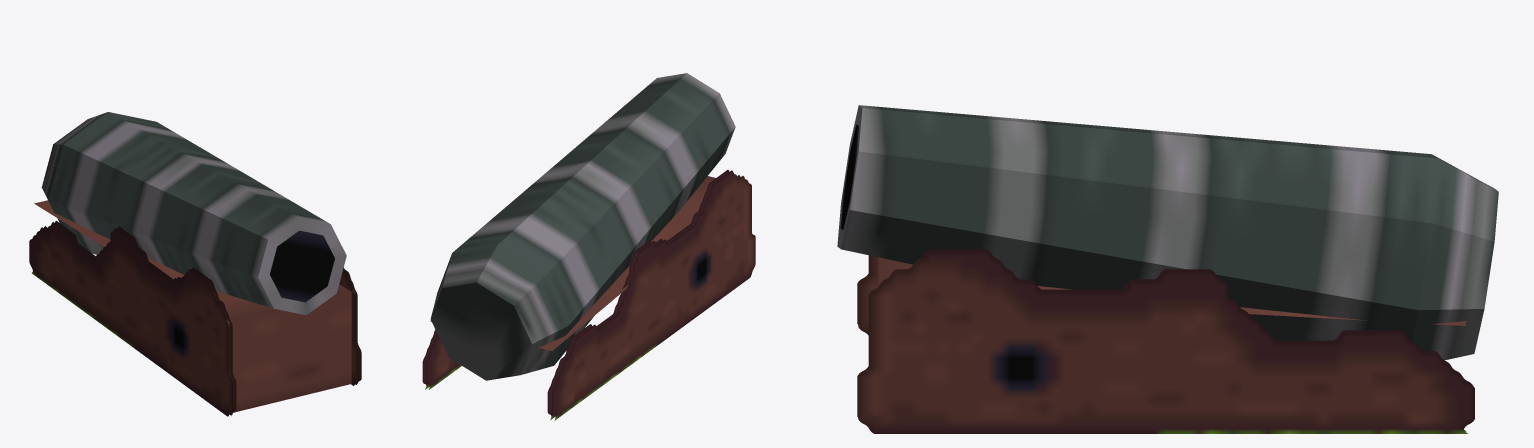
The model's file is Cannon2.fbx.
3 renders of one model, left to right at view 1: azimuth 30°, elevation 25°; view 2: azimuth 150°, elevation 25°; view 3: azimuth 270°, elevation 25°, orthographic. The views are drawn at different scales.
Visible parts, largest first — view 1: Cylinder; view 2: Cylinder; view 3: Cylinder.
Part boxes in pixels (box(x1,y1,x2,y2)): Cylinder: box(29, 112, 361, 416); Cylinder: box(422, 73, 755, 420); Cylinder: box(837, 105, 1498, 433).
Bounding box in the file's own units: 201 × 311 × 622.
